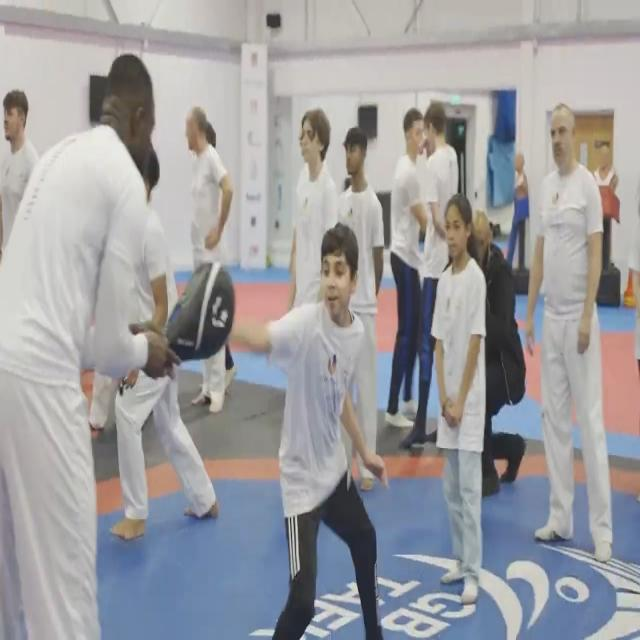paddle: (524, 104, 619, 564), (163, 261, 237, 361)
